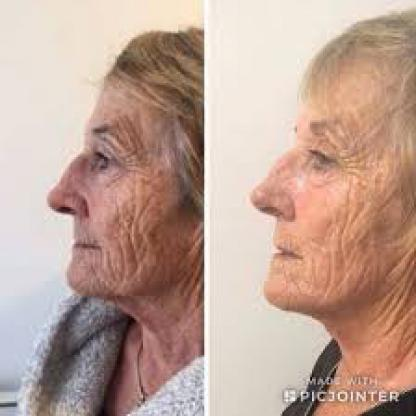darkspot: (183, 233, 277, 277)
